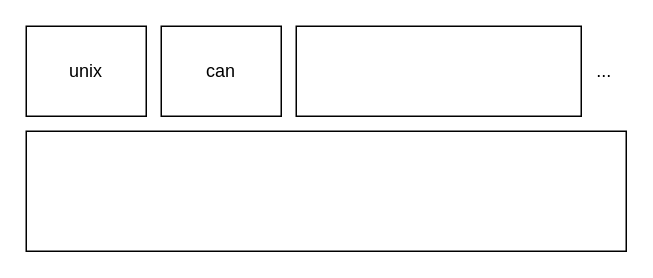
Image size: 653x278. Some labels were removed from this diagram. The shapes that lost their labels are listed below. From the top down, each one's centre as x and y in pixels, then its label:
At (x=438, y=70): "ipv4".
At (x=325, y=190): "协议无关的机制层 代码：net/core/, net/socket.c, net/netfilter等".
